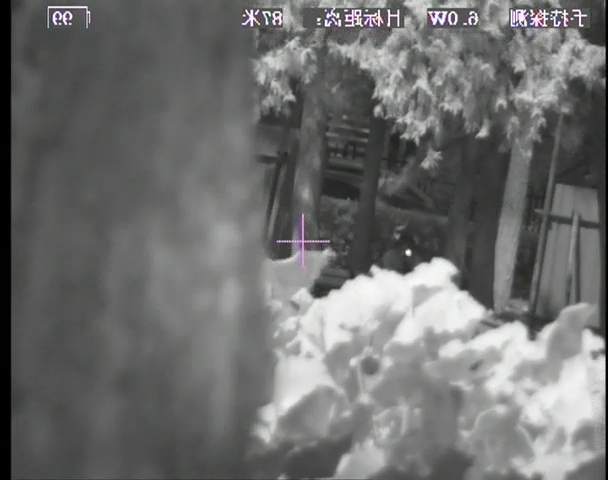my: (403, 246, 414, 258)
